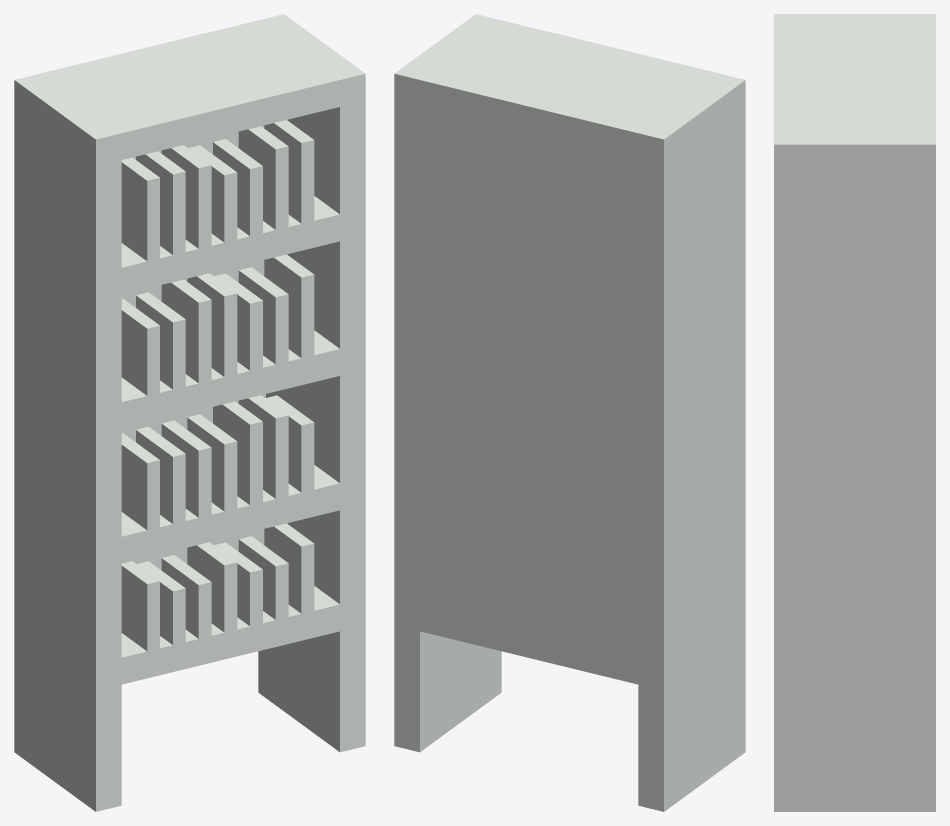
File: cupboard.obj
The picture shows the model from 3 angles, left to right: view 1: azimuth 30°, elevation 25°; view 2: azimuth 150°, elevation 25°; view 3: azimuth 270°, elevation 25°; orthographic projection.
Size of the model in its own units: 2.1 by 5 by 1.1.
1 material, 1 textured.
